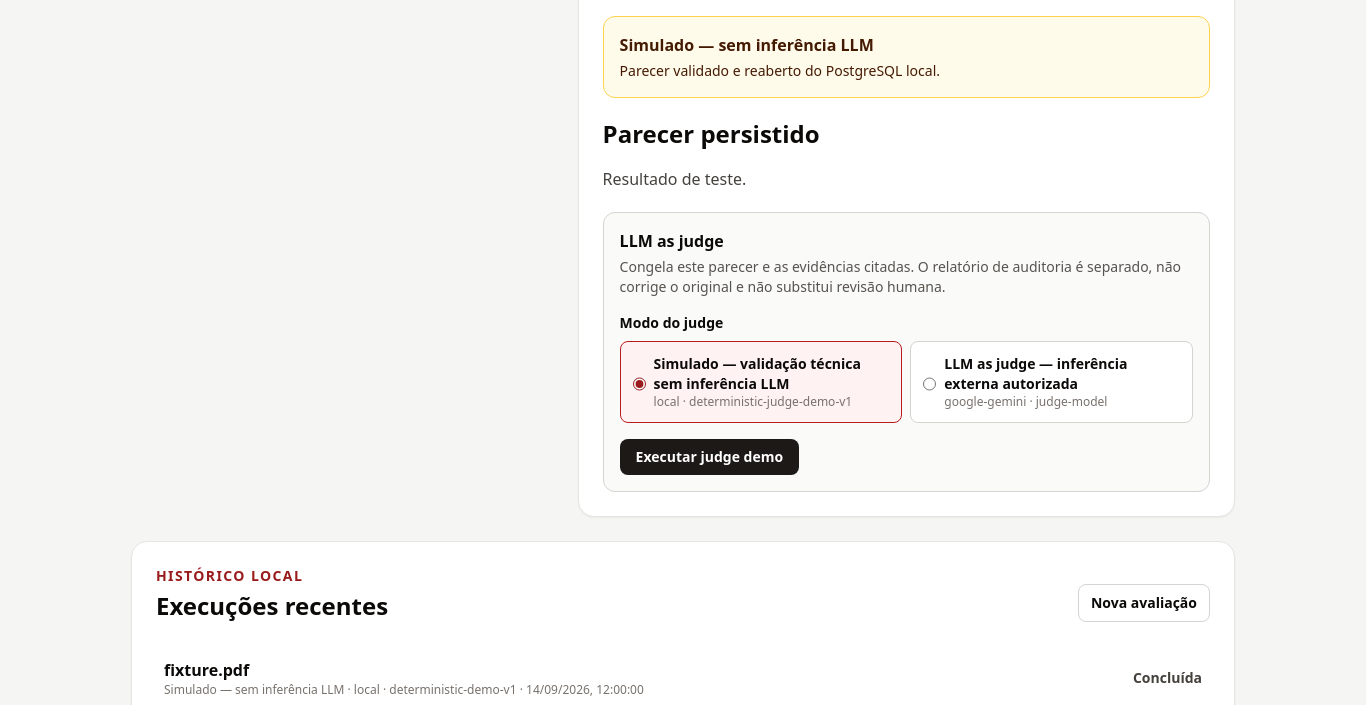
Scenario: Evaluation › exige consentimento antes de executar LLM as judge com outro modelo
(page scrolled)
Step 1. Click the radio button labelled "LLM as judge — inferência externa autorizada" → (930, 384), box [923,358,936,410]
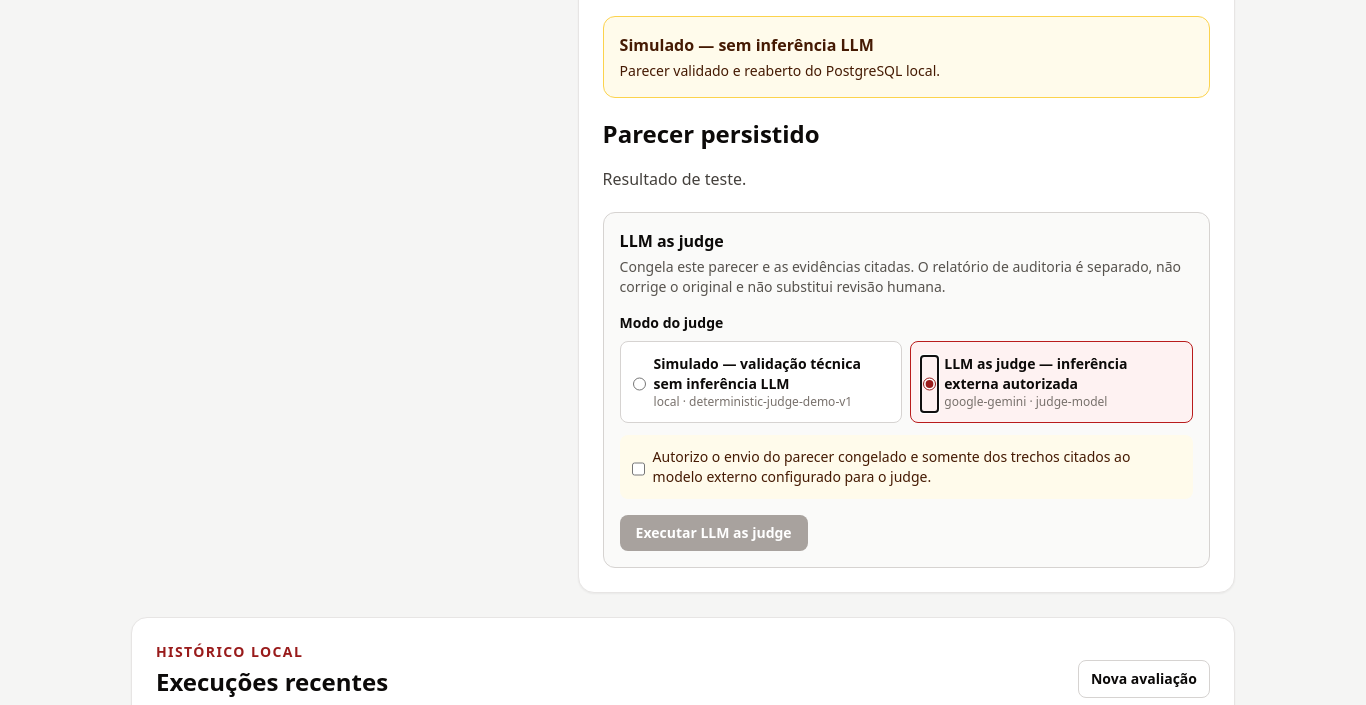
Result: the button "Executar LLM as judge" is disabled at [620,515,808,551]
Step 2. Click the checkbox labelled "Autorizo o envio do parecer congelado" → (638, 469), box [632,451,645,487]
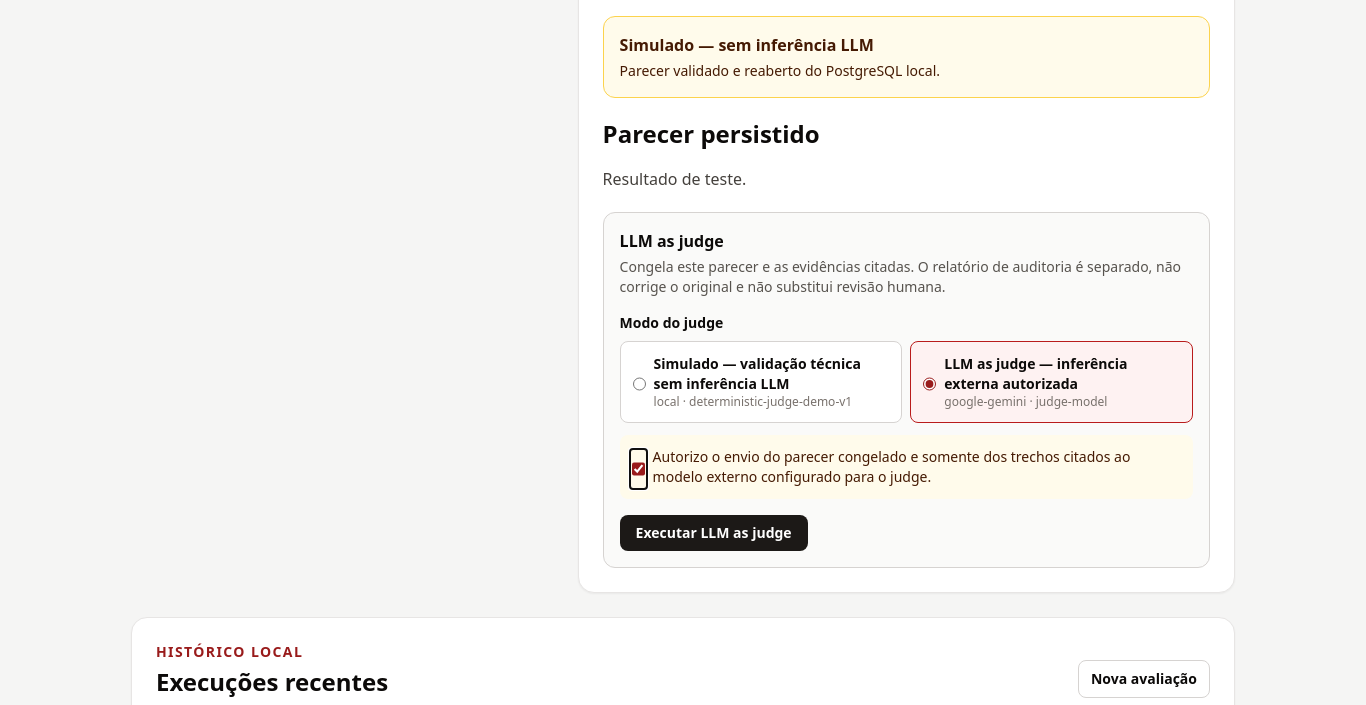
Result: the button "Executar LLM as judge" is enabled
Step 3. Click the button "Executar LLM as judge" → (714, 533), box [620,515,808,551]
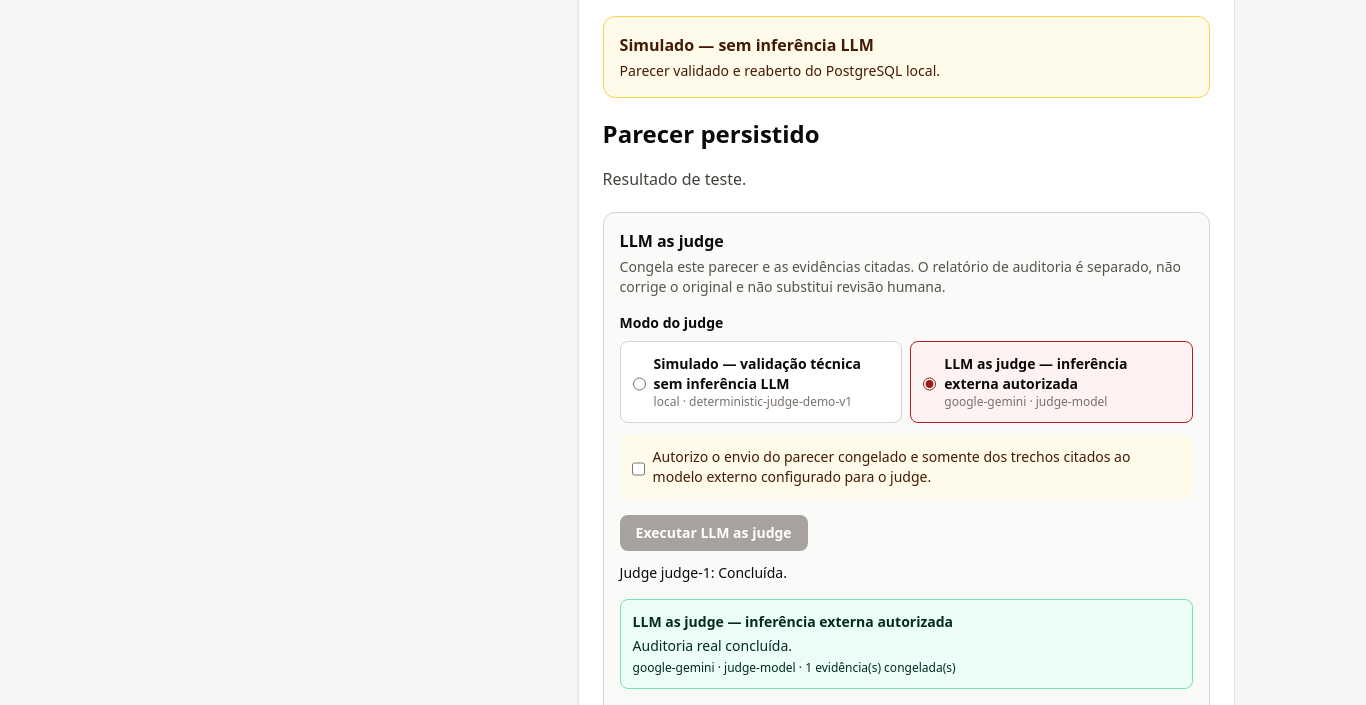
Expected: the text "LLM as judge — inferência externa autorizada" is shown 2 times, [944,354,1127,393]; [633,612,953,631]
Result: the text "Auditoria real concluída." is shown at [633,636,792,655]
